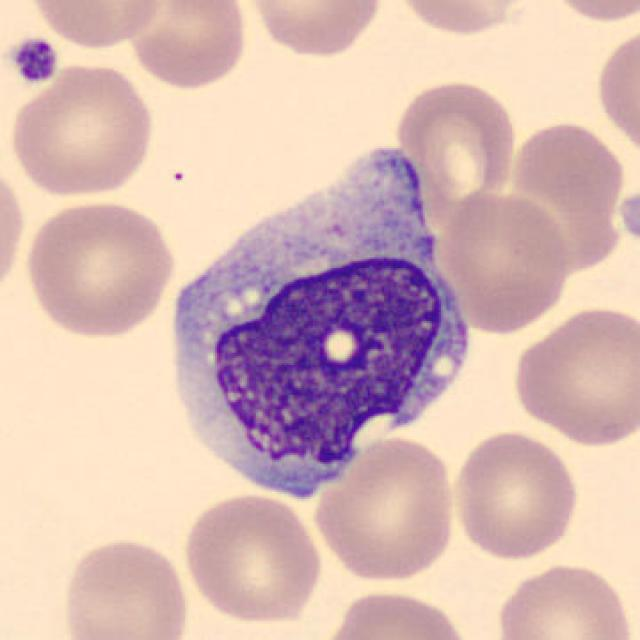Monocyte: (156, 136, 476, 510)
Platelets: (7, 34, 61, 86), (615, 187, 640, 248)
RBC: (19, 196, 180, 340), (310, 430, 460, 584), (5, 60, 158, 199), (436, 187, 574, 335), (180, 490, 326, 628), (508, 301, 638, 448), (448, 427, 583, 562), (389, 76, 519, 210), (57, 534, 192, 640), (507, 117, 629, 220), (121, 0, 251, 92), (491, 559, 636, 640), (238, 0, 386, 60), (316, 585, 476, 640), (23, 0, 167, 51), (592, 21, 638, 161), (390, 0, 540, 39), (0, 157, 28, 307), (544, 0, 638, 25)
